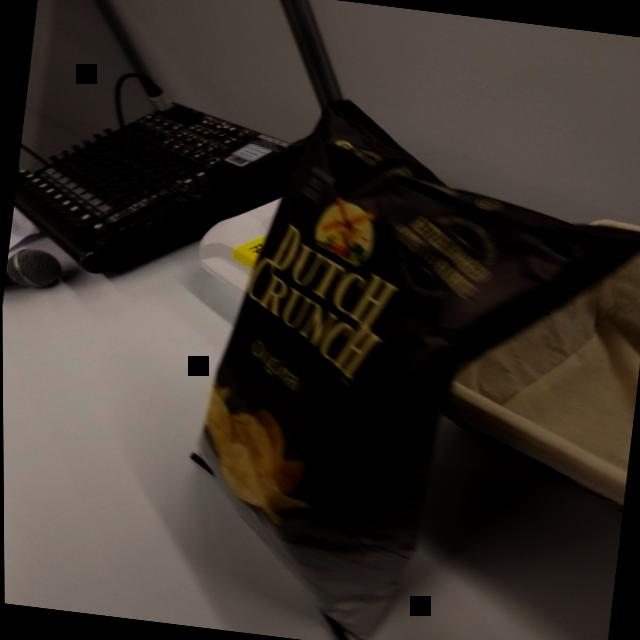potato_chips: (150, 78, 640, 640)
